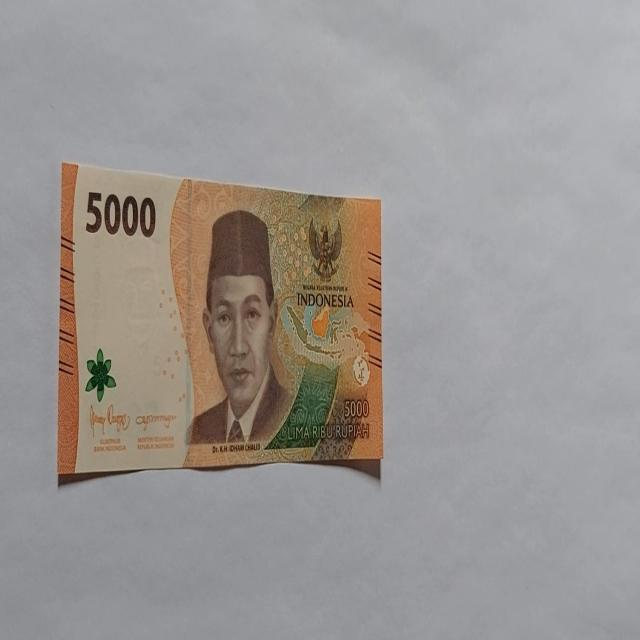lima ribu rupiah: (57, 159, 383, 484), (183, 208, 295, 452)
